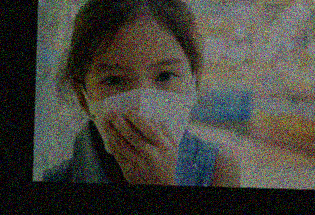with_mask: (85, 54, 196, 160)
